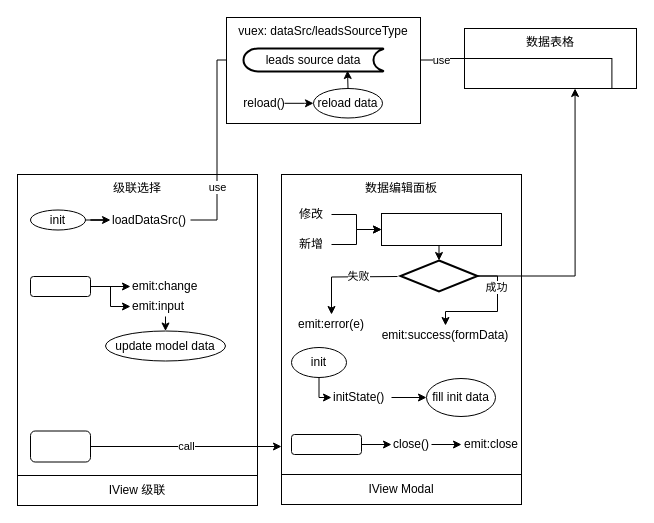
Image size: 654x523. Some labels were removed from this diagram. The centre of each missing label's shape, as x and y in pixels:
"close" belongs at point 326,444.
"form(formData)" belongs at point 441,229.
"search table" belongs at point 538,73.
"shorthand create" belongs at point 60,446.
"submit" belongs at point 438,275.
"选择" belongs at point 60,286.
